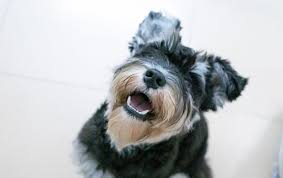dog: (75, 11, 246, 178)
